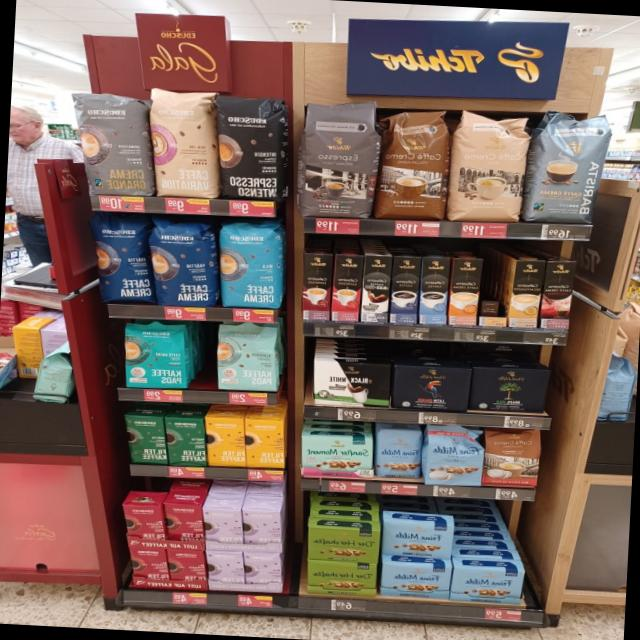BM Gemahlen: (468, 364, 552, 416)
BW Gemahlen: (310, 358, 392, 410)
Barista CC: (526, 109, 612, 226)
CC Mild: (446, 110, 531, 226)
CC Vollmundig: (481, 426, 541, 488)
CC Vollmundig 36 Pads: (376, 104, 452, 222)
Espresso Aromatisch: (296, 93, 380, 221)
FM 36 Pads: (422, 424, 484, 488)
FM Bohne: (374, 426, 423, 479)
FM Gemahlen: (450, 564, 527, 607), (380, 518, 457, 560), (378, 559, 453, 602)
Herzhatfe Mundig: (306, 526, 383, 564), (304, 560, 380, 598)
LG Gemahlen: (392, 362, 472, 413)
SM Gemahlen: (300, 432, 374, 481)
Simo CC Colombia: (539, 261, 578, 329)
Simo CCVollmundig bigpack: (447, 256, 482, 326)
Simo Decaff: (508, 260, 546, 328)
Simo Es Brazil: (331, 255, 363, 323)
Simo Es Caramel: (302, 254, 332, 322)
Simo Es Elegant: (360, 255, 392, 324)
Simo Es Kraft: (390, 255, 420, 325)
Simo Es Vanilla: (418, 256, 449, 324)
